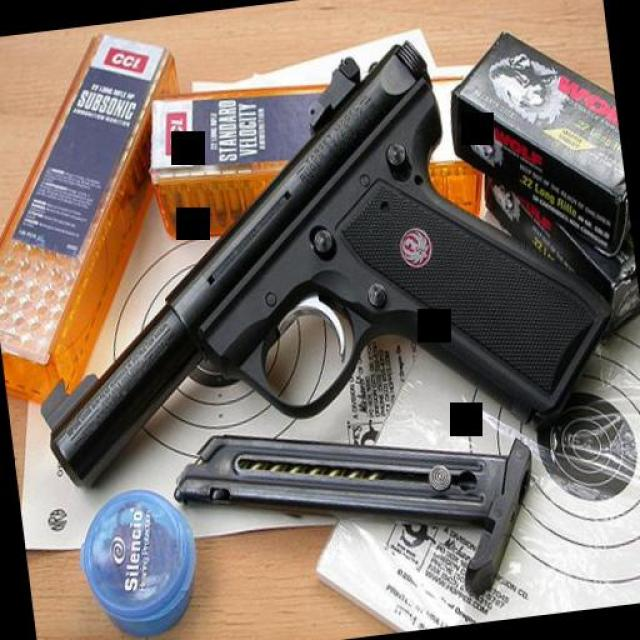gun: (0, 18, 624, 492)
